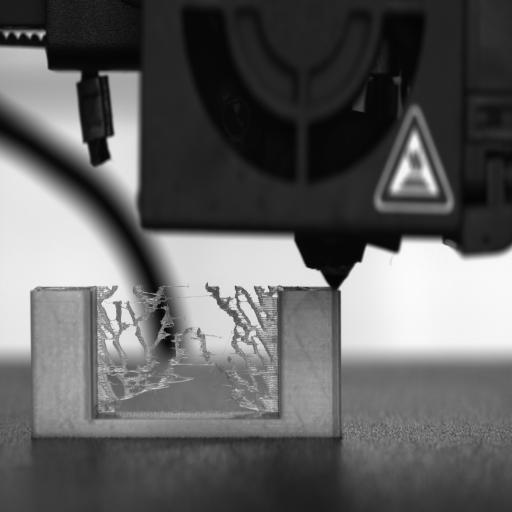spaghetti_and_stringing: (94, 283, 279, 412)
